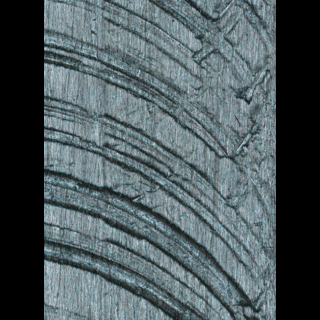d: (46, 0, 275, 317)
